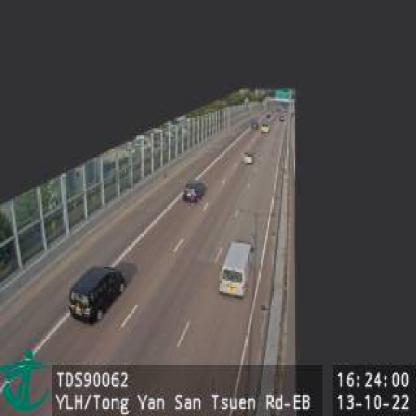Car: (68, 264, 127, 325), (219, 240, 254, 298), (183, 178, 208, 203), (242, 150, 255, 164), (261, 123, 270, 134)
